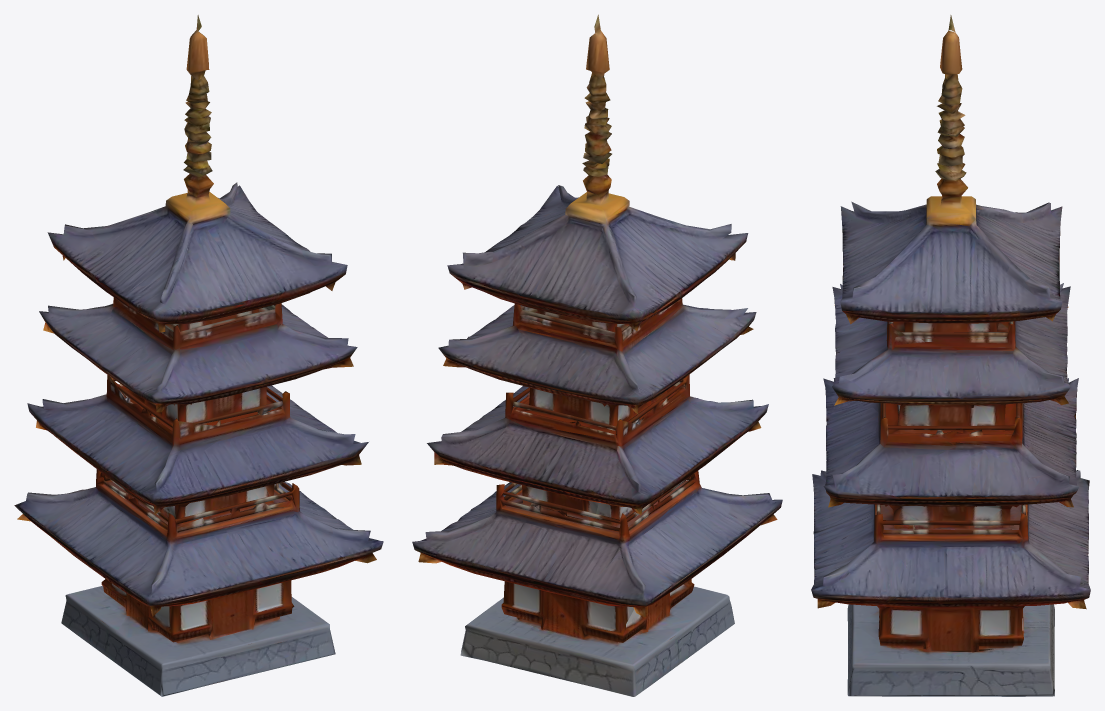
The model's file is pagoda3.glb.
3 renders of one model, left to right at view 1: azimuth 30°, elevation 25°; view 2: azimuth 150°, elevation 25°; view 3: azimuth 270°, elevation 25°, orthographic. The views are drawn at different scales.
Visible parts, largest first — view 1: tripo_node_43b61c22-2ebb-42bd-8cd0-383f45f9ccf2; view 2: tripo_node_43b61c22-2ebb-42bd-8cd0-383f45f9ccf2; view 3: tripo_node_43b61c22-2ebb-42bd-8cd0-383f45f9ccf2.
Part boxes in pixels (box(x1,y1,x2,y2)): tripo_node_43b61c22-2ebb-42bd-8cd0-383f45f9ccf2: box(14, 15, 383, 696); tripo_node_43b61c22-2ebb-42bd-8cd0-383f45f9ccf2: box(412, 14, 782, 696); tripo_node_43b61c22-2ebb-42bd-8cd0-383f45f9ccf2: box(811, 15, 1090, 696).
Size of the model in its own units: 0.394 by 1.01 by 0.3989.
1 material, 1 textured.
